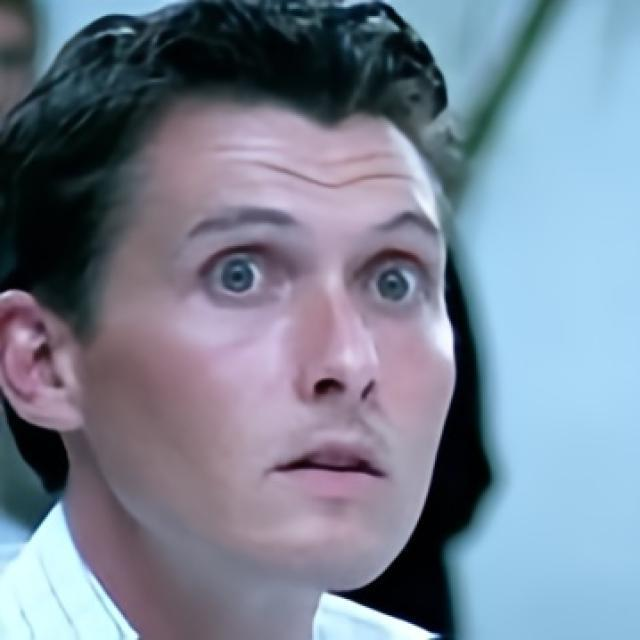fear: (87, 89, 462, 592)
